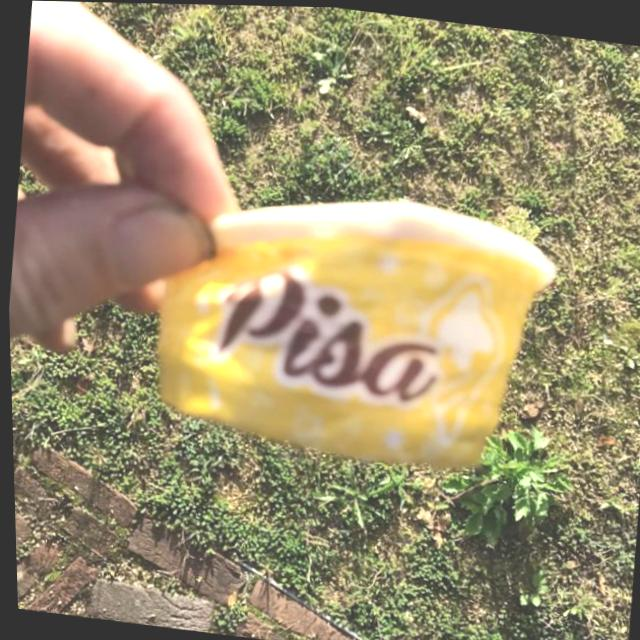Paper: (131, 166, 569, 487)
